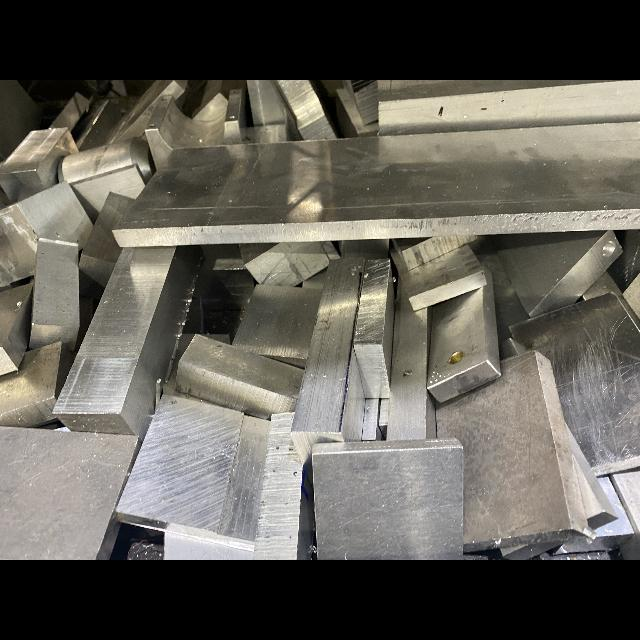Aluminium: (113, 123, 640, 246), (435, 350, 591, 553), (53, 246, 200, 443), (115, 394, 271, 552), (509, 291, 640, 476), (0, 427, 140, 560), (312, 438, 463, 560), (291, 258, 366, 489), (378, 80, 640, 136), (175, 334, 304, 419), (496, 231, 622, 317), (427, 266, 500, 402), (0, 184, 92, 287), (253, 412, 313, 560), (145, 89, 247, 170), (387, 282, 437, 439), (232, 285, 322, 368), (389, 244, 486, 313), (553, 474, 634, 554), (0, 342, 74, 427), (78, 192, 136, 299), (354, 258, 396, 398), (0, 128, 78, 201), (29, 238, 80, 349), (104, 80, 188, 145), (474, 249, 530, 344), (163, 334, 231, 408), (569, 433, 618, 529), (239, 240, 341, 286), (190, 245, 257, 311), (58, 137, 152, 184), (271, 80, 339, 140), (243, 80, 302, 144), (582, 271, 640, 333), (0, 280, 33, 376), (391, 235, 478, 270), (608, 467, 640, 560), (74, 100, 122, 151), (164, 533, 253, 560), (336, 81, 379, 136), (189, 80, 246, 120), (608, 229, 640, 292), (48, 91, 88, 131), (346, 81, 378, 126), (500, 539, 567, 560), (332, 238, 389, 259), (361, 399, 384, 441), (622, 273, 640, 321), (183, 298, 205, 334), (499, 336, 529, 360), (302, 265, 328, 289), (378, 398, 390, 439), (203, 334, 230, 346)
